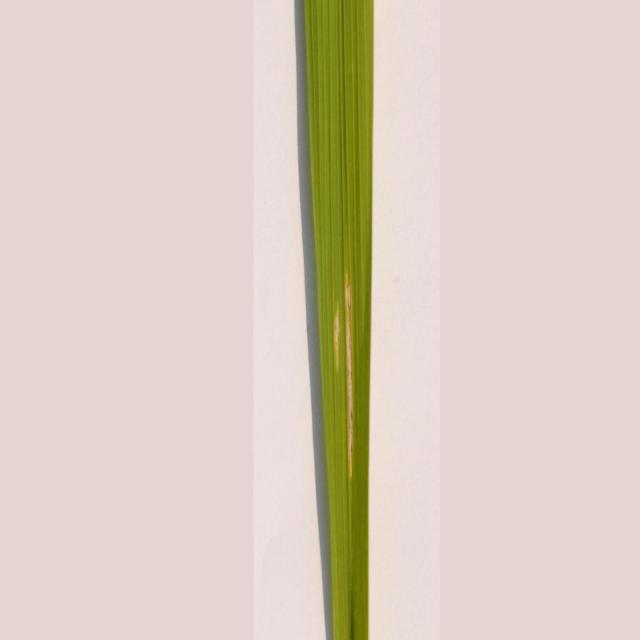Bacterial leaf blight: (342, 268, 363, 507), (323, 303, 342, 392)
